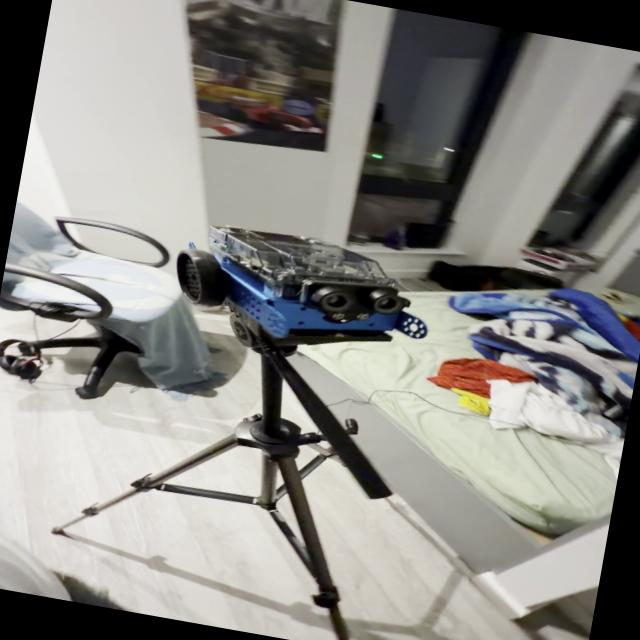mbot-detection: (156, 208, 442, 364)
